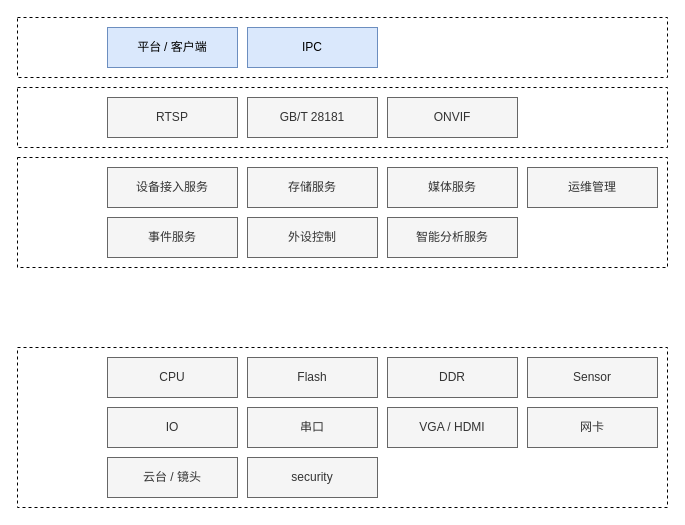
Some shapes in this 685 by 525 pixel diagram are drawn without their labels. The shapes that lost their labels are listed below. From the top down, each one's box as (x1, y1, x2, y2) in pixels, then its label:
(16, 86, 668, 148): 接口服务
(16, 156, 668, 268): 业务服务
(16, 346, 668, 508): 硬件
